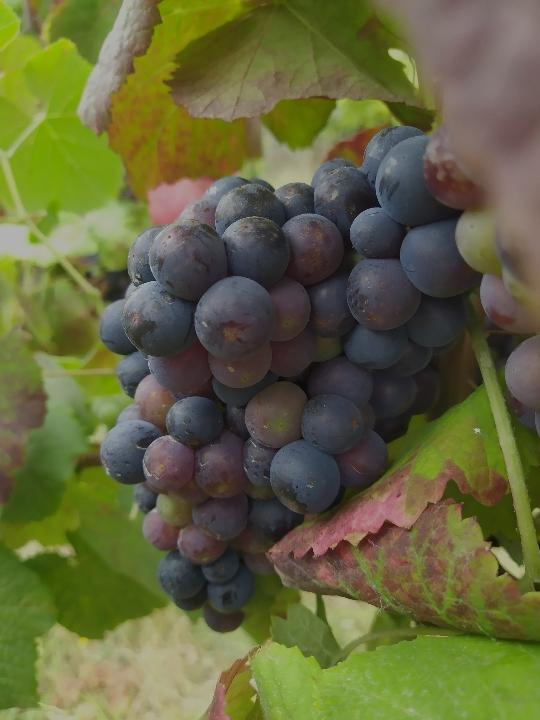grape: (90, 128, 482, 633)
